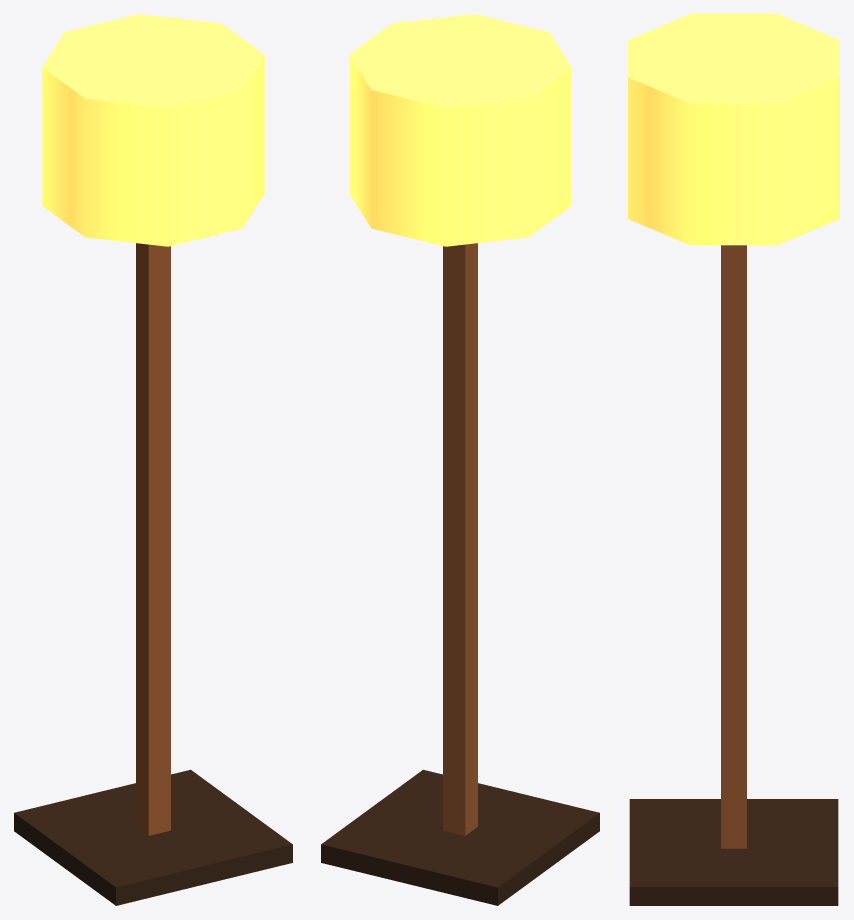
File: lamp.glb
The picture shows the model from 3 angles, left to right: view 1: azimuth 30°, elevation 25°; view 2: azimuth 150°, elevation 25°; view 3: azimuth 270°, elevation 25°; orthographic projection. The views are drawn at different scales.
Parts seen in each view (by area): view 1: lamp; view 2: lamp; view 3: lamp.
Part boxes in pixels (x1=…): lamp: x1=14, y1=14, x2=292, y2=905; lamp: x1=321, y1=14, x2=599, y2=905; lamp: x1=628, y1=14, x2=839, y2=905.
Bounding box in the file's own units: 0.4065 × 1.7 × 0.4065.
